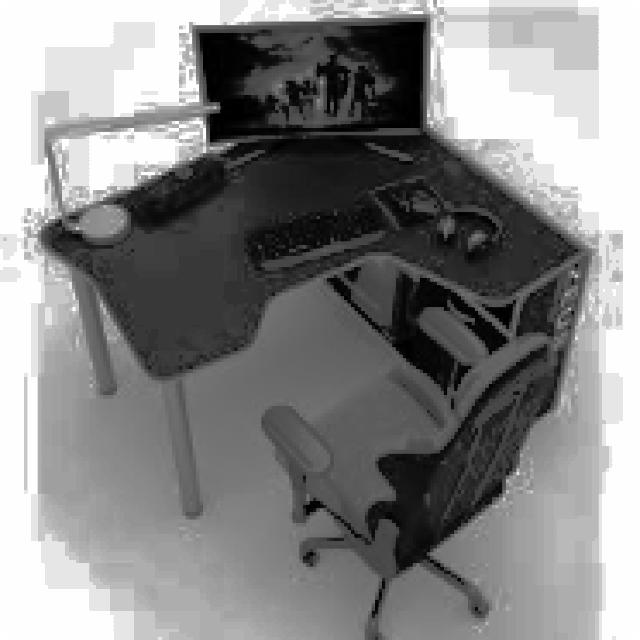book: (258, 318, 554, 636)
table: (38, 113, 592, 516)
